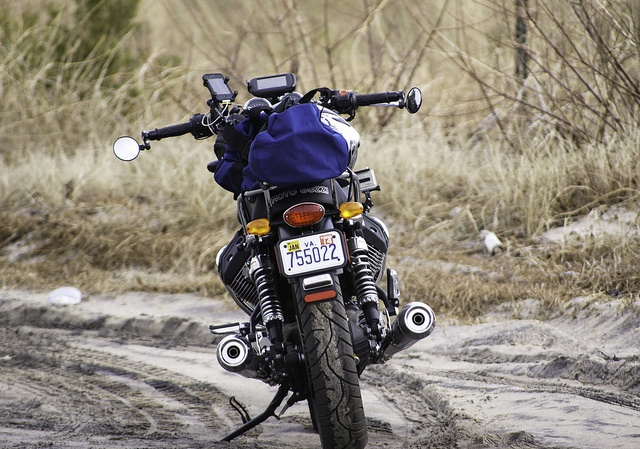bike: (72, 37, 491, 432)
